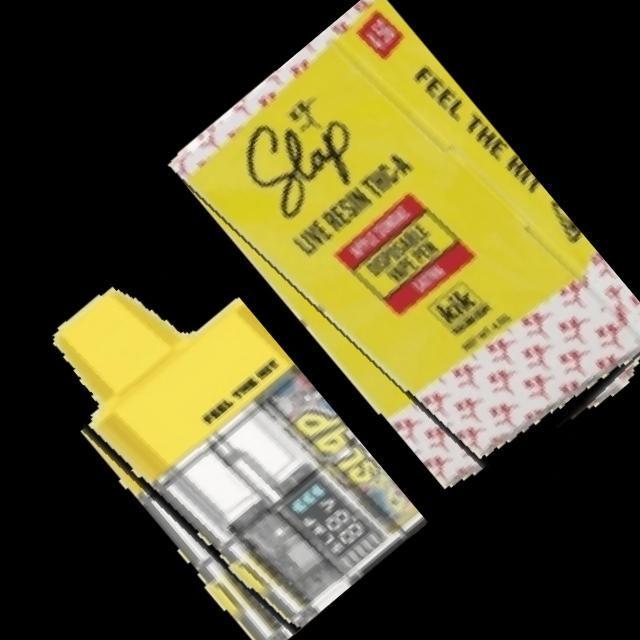Hazard: (164, 0, 640, 520), (11, 223, 427, 640)
